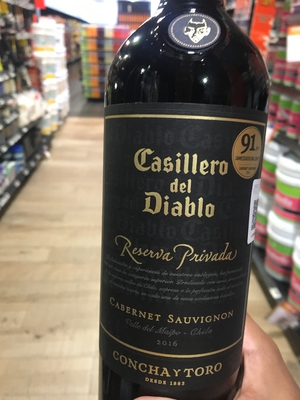casillero del diablo reserva privada cabernet sauvignon: (90, 27, 273, 390)
